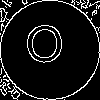O: (25, 25, 64, 71)
